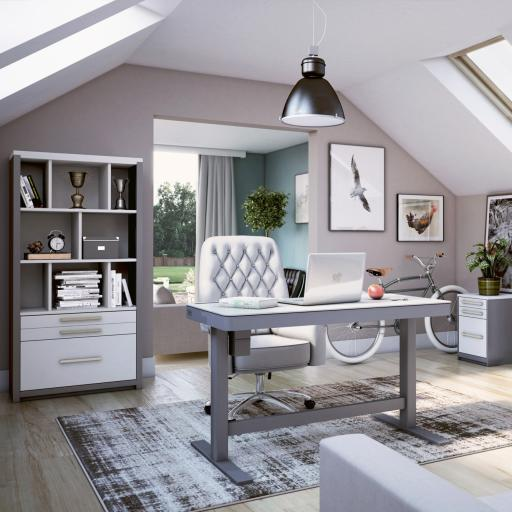chair: (199, 236, 326, 420), (283, 268, 306, 297)
desk: (186, 291, 452, 486)
sofa: (319, 432, 512, 512), (154, 283, 208, 355)
wall: (0, 63, 457, 389)
